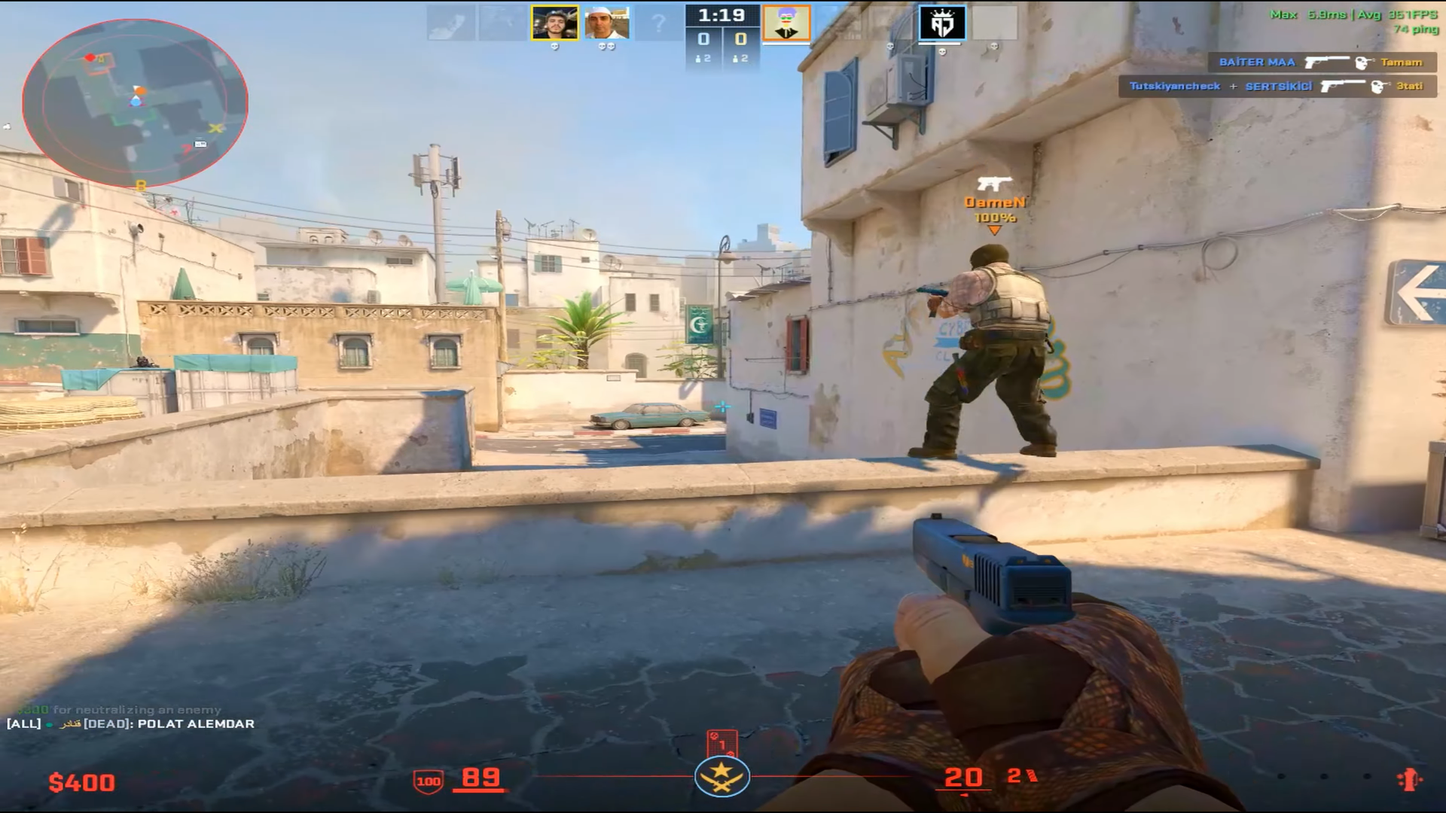T: (894, 239, 1057, 464)
